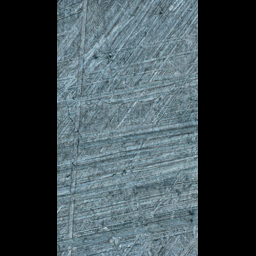d: (87, 0, 161, 255), (57, 70, 198, 129), (61, 0, 91, 256)
